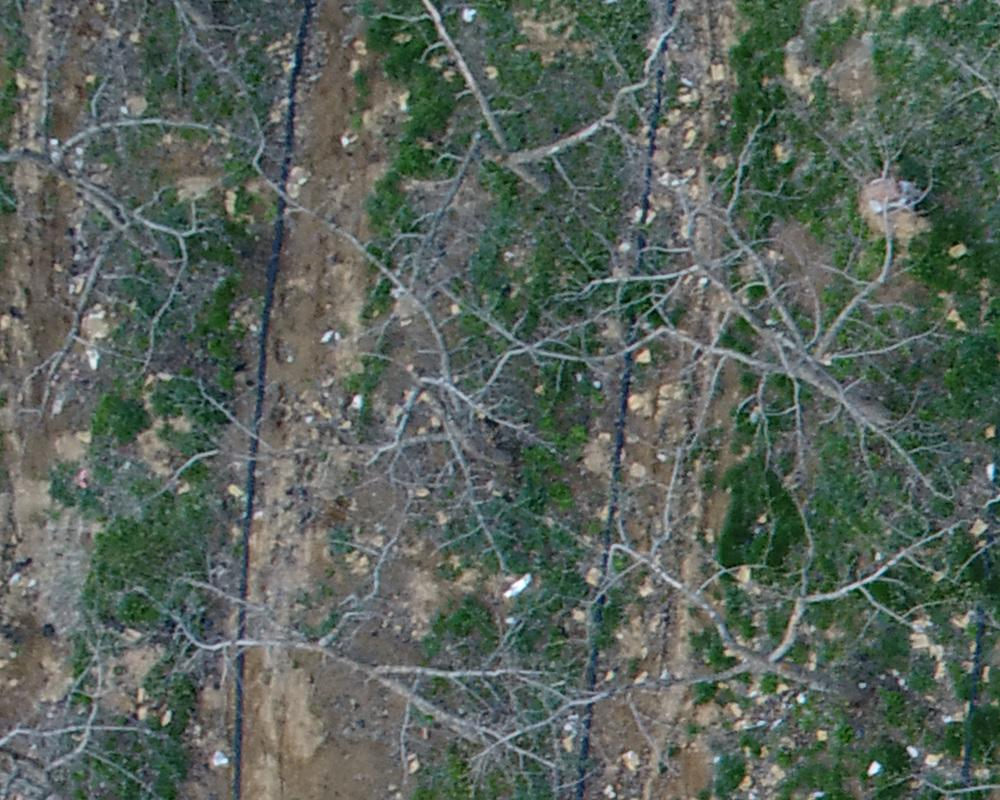apple: (542, 132, 962, 508), (204, 241, 582, 574), (155, 528, 619, 790), (10, 57, 273, 389), (587, 505, 906, 751), (245, 125, 535, 379), (393, 10, 675, 222), (10, 637, 168, 790)
